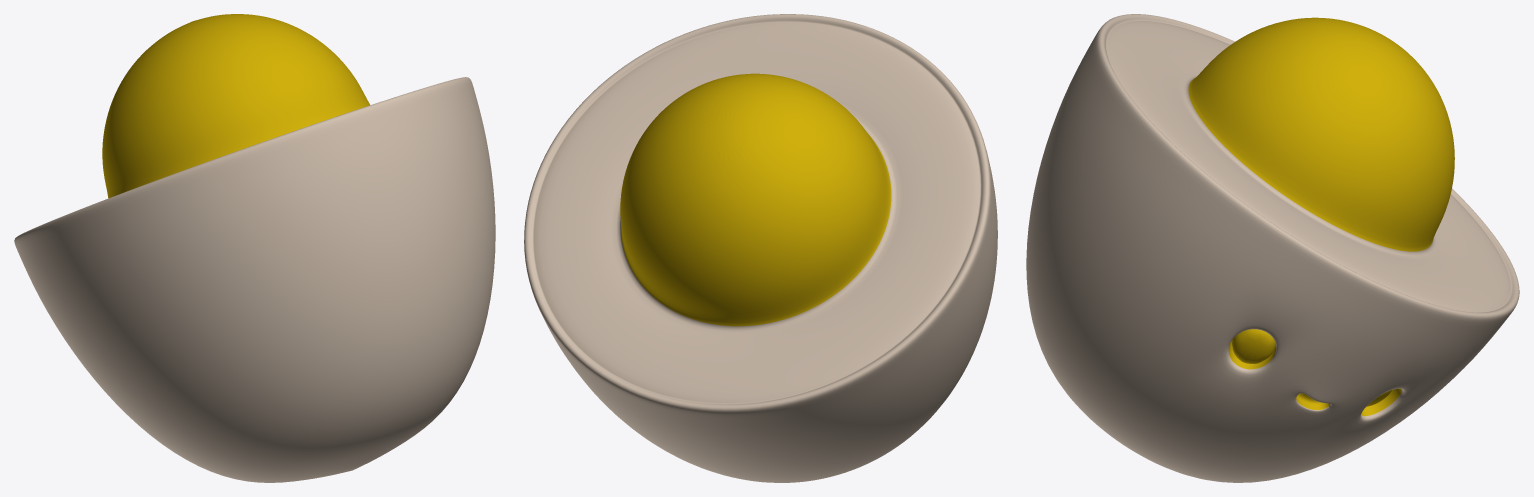
3 renders of one model, left to right at view 1: azimuth 30°, elevation 25°; view 2: azimuth 150°, elevation 25°; view 3: azimuth 270°, elevation 25°, orthographic. The views are drawn at different scales.
Visible parts, largest first — view 1: Sphere.026; view 2: Sphere.026; view 3: Sphere.026.
Part boxes in pixels (x1,y1,x2,y2): Sphere.026: (14, 14, 495, 482); Sphere.026: (524, 14, 997, 482); Sphere.026: (1026, 14, 1519, 482).
Bounding box in the file's own units: 0.9227 × 0.8718 × 0.9115.
